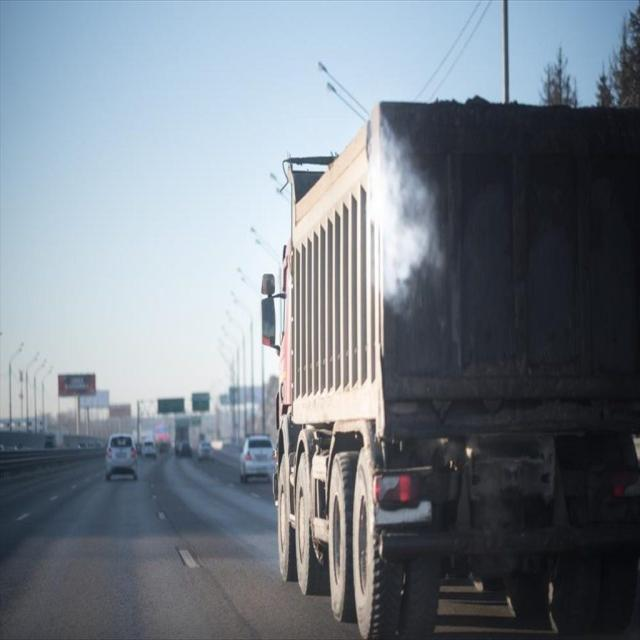car: (240, 436, 274, 481), (105, 434, 138, 480)
truck: (262, 100, 640, 636)
